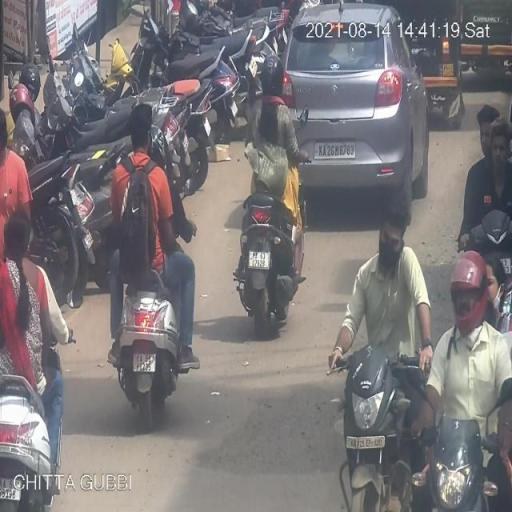using mobile: (378, 229, 410, 281)
